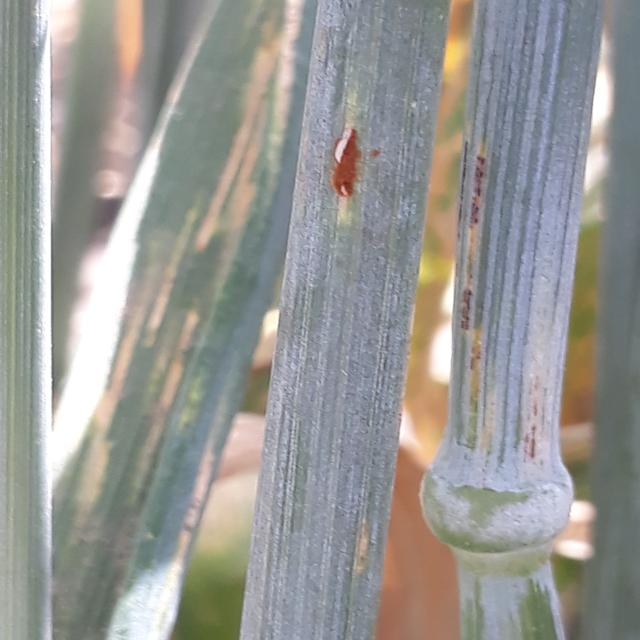black_stem_rust: (407, 15, 618, 640), (298, 0, 436, 640)
